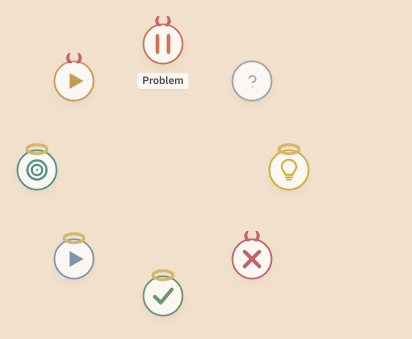
it: QuickAddGhosts templates › switches the phrases when another ghost is picked
(page scrolled)
Click the button named "Fail" at [252, 259], box [228,235,276,283]
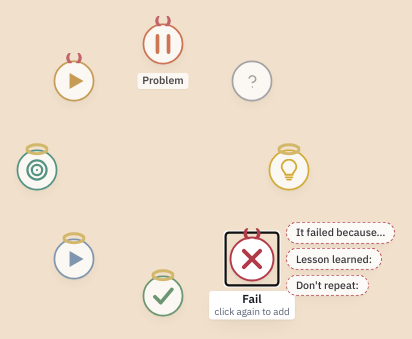
Check: the button "It failed because…" is shown, box [286,222,395,244]
